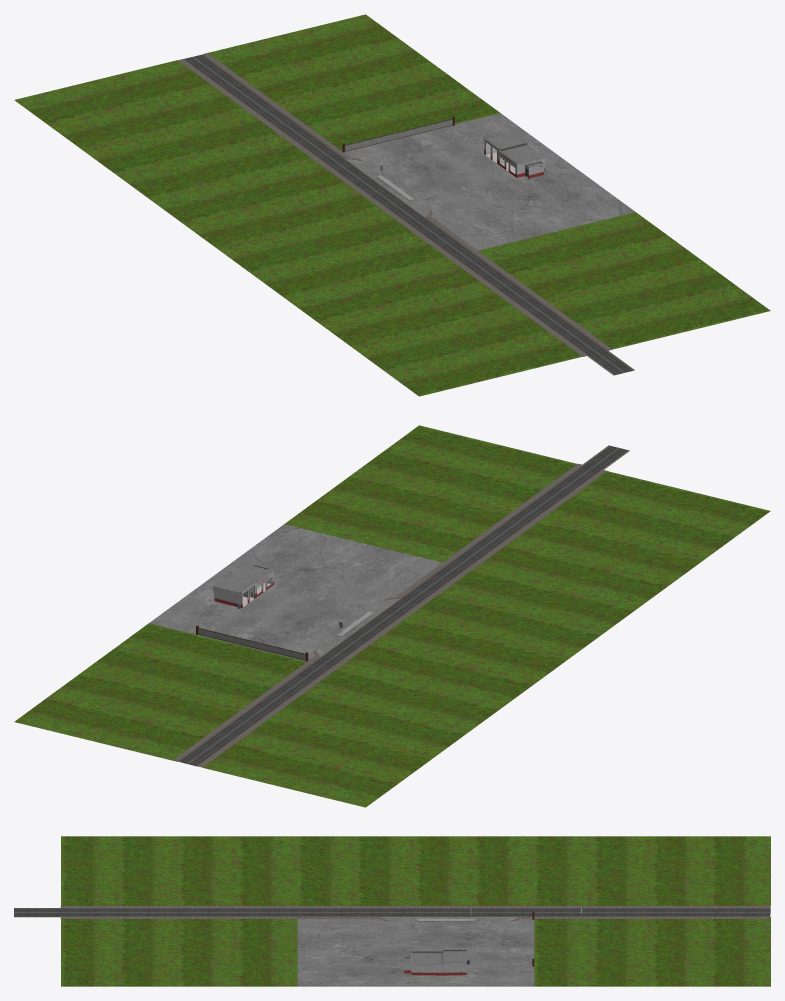
File: Road.fbx
The picture shows the model from 3 angles, top to bottom: view 1: azimuth 30°, elevation 25°; view 2: azimuth 150°, elevation 25°; view 3: azimuth 270°, elevation 25°; orthographic projection. The views are drawn at different scales.
Parts seen in each view (by area): view 1: pPlane70, pPlane73, pPlane71, pPlane72, pPlane74, Floor, pasted__polySurface2, pasted__polySurface1996, Biulding, pasted__polySurface46, pasted__polySurface1999, pasted__polySurface1995; view 2: pPlane70, pPlane73, pPlane71, pPlane74, pPlane72, Floor, pasted__polySurface2, pasted__polySurface1996, Biulding, pasted__polySurface46, pasted__polySurface1999, pasted__polySurface1995; view 3: pPlane70, pPlane73, pPlane71, pPlane74, pPlane72, Floor, pasted__polySurface2, pasted__polySurface1996, Biulding, pasted__polySurface46, pasted__polySurface1995, pasted__polySurface1999 (+2 smaller).
Boxes of the visible parts, x1=… form: pPlane70: x1=149, y1=159, x2=447, y2=297; pPlane73: x1=14, y1=60, x2=311, y2=198; pPlane71: x1=284, y1=258, x2=582, y2=396; pPlane72: x1=478, y1=212, x2=770, y2=349; pPlane74: x1=203, y1=14, x2=500, y2=151; Floor: x1=344, y1=113, x2=635, y2=250; pasted__polySurface2: x1=291, y1=133, x2=634, y2=375; pasted__polySurface1996: x1=183, y1=54, x2=309, y2=137; Biulding: x1=484, y1=132, x2=545, y2=178; pasted__polySurface46: x1=278, y1=132, x2=452, y2=257; pasted__polySurface1999: x1=472, y1=250, x2=612, y2=350; pasted__polySurface1995: x1=448, y1=256, x2=587, y2=356; pPlane70: x1=337, y1=570, x2=635, y2=708; pPlane73: x1=202, y1=669, x2=500, y2=807; pPlane71: x1=473, y1=471, x2=770, y2=609; pPlane74: x1=14, y1=623, x2=306, y2=761; pPlane72: x1=284, y1=425, x2=576, y2=562; Floor: x1=149, y1=524, x2=441, y2=661; pasted__polySurface2: x1=286, y1=445, x2=629, y2=687; pasted__polySurface1996: x1=178, y1=683, x2=304, y2=766; Biulding: x1=213, y1=564, x2=273, y2=607; pasted__polySurface46: x1=298, y1=568, x2=471, y2=694; pasted__polySurface1999: x1=443, y1=463, x2=582, y2=563; pasted__polySurface1995: x1=467, y1=469, x2=607, y2=569; pPlane70: x1=297, y1=836, x2=534, y2=905; pPlane73: x1=534, y1=836, x2=770, y2=905; pPlane71: x1=61, y1=836, x2=297, y2=905; pPlane74: x1=534, y1=917, x2=770, y2=986; pPlane72: x1=61, y1=919, x2=297, y2=986; Floor: x1=297, y1=917, x2=534, y2=986; pasted__polySurface2: x1=14, y1=908, x2=581, y2=917; pasted__polySurface1996: x1=581, y1=908, x2=770, y2=916; Biulding: x1=404, y1=949, x2=467, y2=975; pasted__polySurface46: x1=297, y1=906, x2=595, y2=908; pasted__polySurface1995: x1=60, y1=906, x2=297, y2=908; pasted__polySurface1999: x1=60, y1=916, x2=297, y2=918.
Bounding box in the file's own units: 25973 × 1145 × 55264.
Materials: 4 (4 with a texture image).
